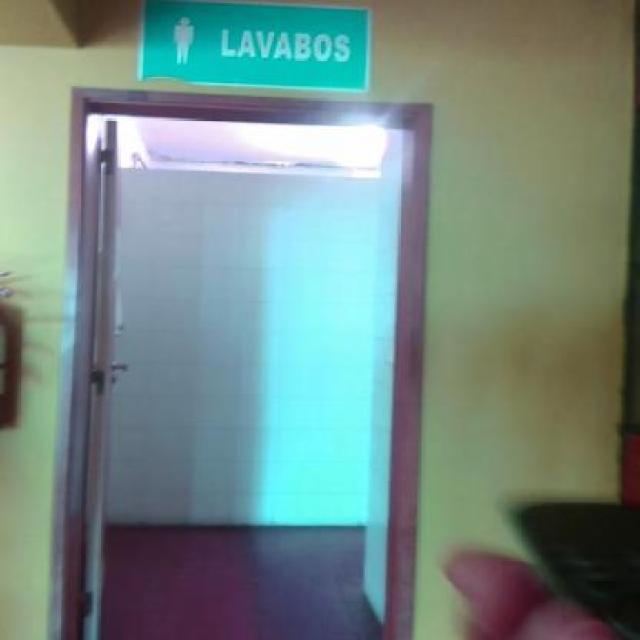door_local: (68, 84, 432, 640)
